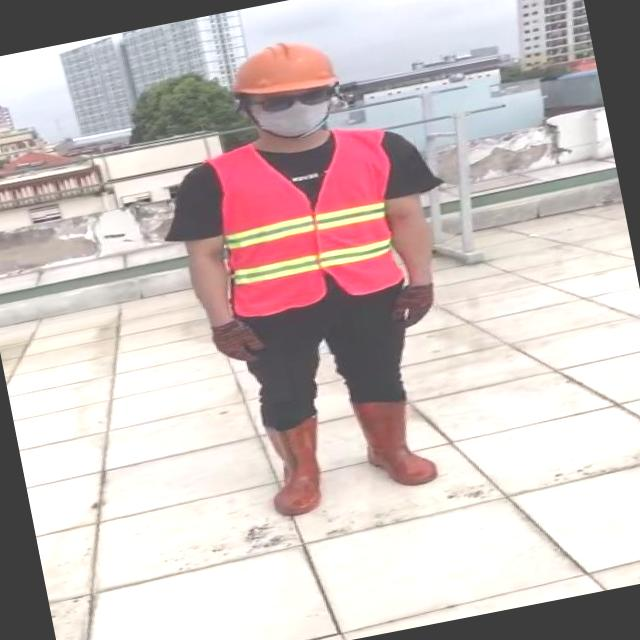boots: (354, 392, 440, 492), (256, 414, 334, 520)
gloves: (202, 302, 274, 391), (390, 264, 455, 344)
helmet: (221, 31, 342, 107)
vest: (204, 120, 409, 320)
